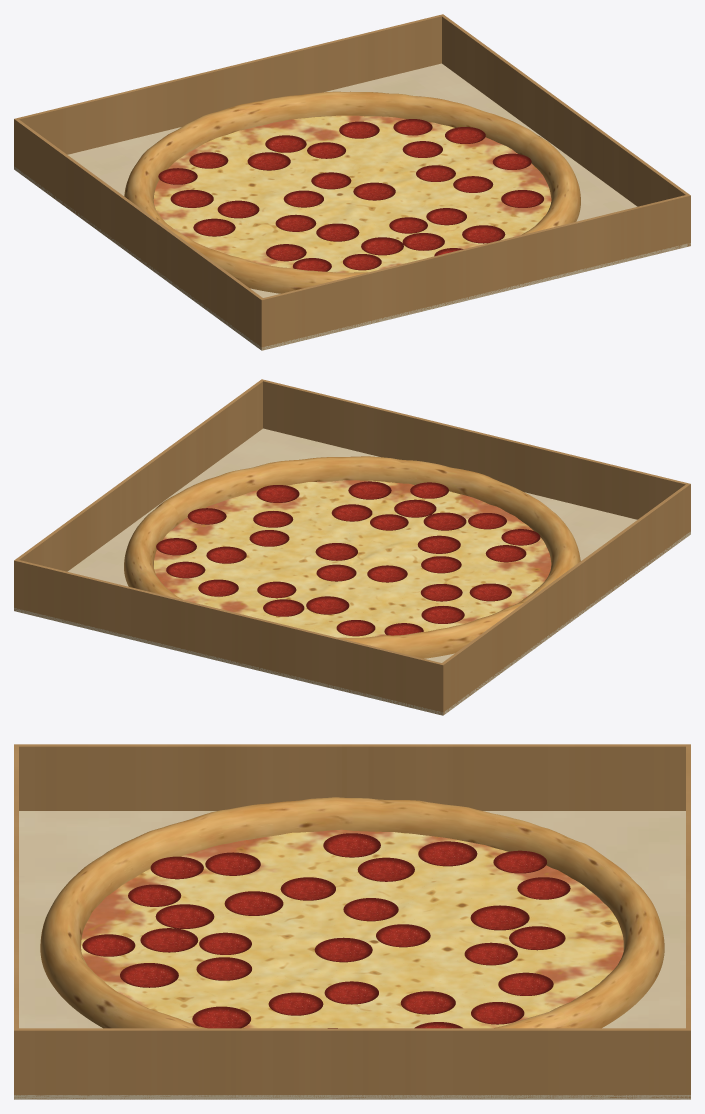
The model's file is pizza-caixa-pepperoni.glb.
3 views of the same model, one above another, from view 1: azimuth 30°, elevation 25°; view 2: azimuth 150°, elevation 25°; view 3: azimuth 270°, elevation 25° (orthographic). The views are drawn at different scales.
Visible parts, largest first — view 1: pizza-caixa-pepperoni; view 2: pizza-caixa-pepperoni; view 3: pizza-caixa-pepperoni.
Boxes of the visible parts, bbox=[...] form: pizza-caixa-pepperoni: bbox=[14, 14, 690, 350]; pizza-caixa-pepperoni: bbox=[14, 379, 690, 715]; pizza-caixa-pepperoni: bbox=[14, 744, 690, 1099].
Bounding box in the file's own units: 0.4 × 0.045 × 0.4.
5 materials, 5 textured.
